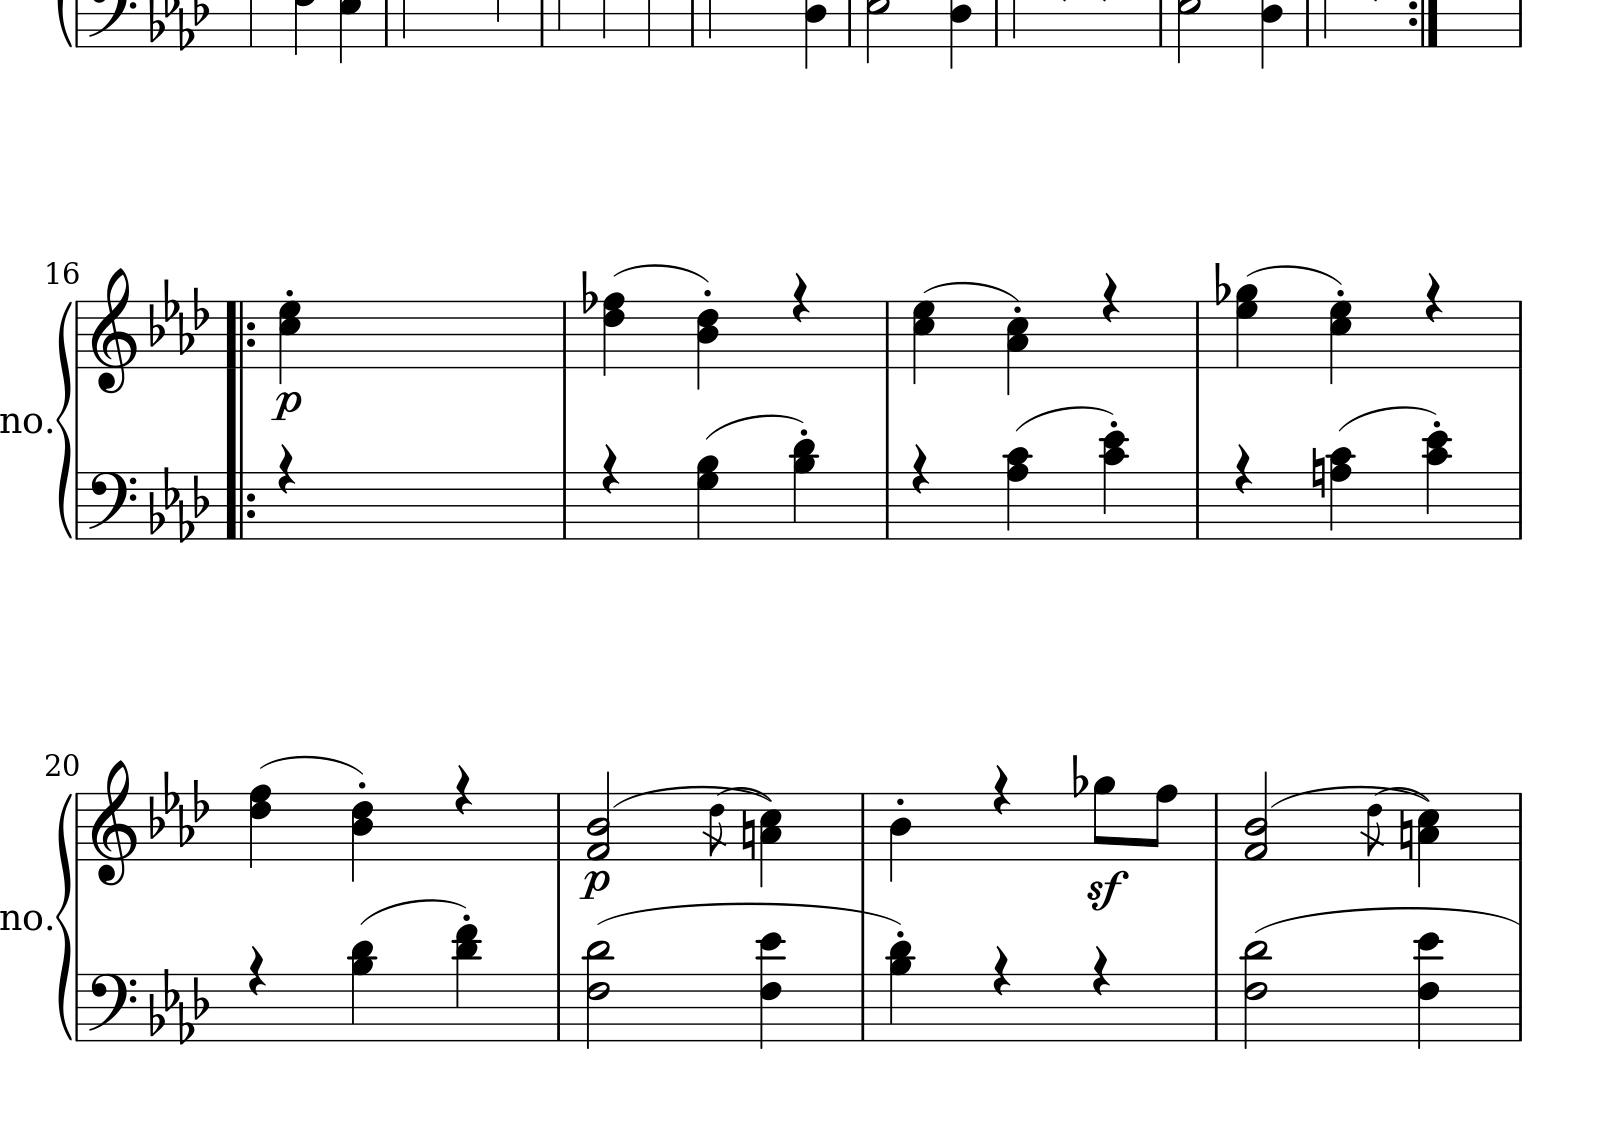0: (62, 750, 79, 778)
1: (45, 258, 59, 286)
2: (44, 751, 62, 777)
2_1_4: (585, 771, 613, 861), (1243, 773, 1271, 864)
2_6_11: (1241, 940, 1274, 1052), (582, 938, 613, 1050)
4_10_12: (1100, 426, 1129, 539), (1423, 429, 1452, 541)
4_11_13: (451, 924, 483, 1043)
4_3_5: (759, 792, 784, 890), (1415, 792, 1441, 888), (1006, 299, 1030, 400)
4_4: (888, 792, 914, 883)
4_4_6: (349, 791, 376, 882), (696, 299, 720, 391)
4_5_7: (1327, 298, 1354, 385), (912, 298, 937, 387), (277, 299, 302, 386)
4_6_10: (758, 930, 788, 1050)
4_6_12: (1412, 931, 1444, 1050)
4_6_8: (248, 782, 274, 868), (602, 290, 626, 378)
4_7_9: (695, 453, 720, 540), (1235, 282, 1259, 371)
4_8_10: (1325, 445, 1356, 541), (1002, 446, 1032, 543)
4_9_11: (885, 940, 916, 1041), (791, 436, 820, 543), (348, 940, 376, 1042)
6: (62, 257, 79, 286)
8_8: (1142, 783, 1178, 861)
8_9: (1091, 773, 1116, 861)
A_F: (148, 769, 210, 848), (147, 966, 209, 1043), (149, 276, 209, 354), (148, 464, 208, 543)
Acciaccature: (1361, 791, 1386, 861), (705, 792, 728, 863)
Brace: (55, 784, 75, 1042), (55, 298, 75, 536)
Fclef: (87, 469, 137, 541), (88, 971, 137, 1043)
Flat: (580, 268, 599, 315), (1213, 259, 1230, 307), (1070, 751, 1087, 799)
Gclef: (90, 265, 137, 393), (90, 758, 136, 886)
LeftRepeatSign: (222, 299, 258, 369), (224, 470, 258, 540)
Natural: (739, 810, 758, 864), (1397, 809, 1414, 864), (1310, 444, 1326, 500)
Rests4: (791, 270, 813, 326), (1100, 271, 1122, 326), (1423, 270, 1445, 325), (453, 762, 475, 817), (1233, 442, 1254, 496), (600, 442, 619, 496), (910, 442, 930, 496), (992, 762, 1012, 816), (992, 944, 1012, 998), (1091, 944, 1111, 998), (277, 444, 296, 496), (249, 944, 265, 998)
RightRepeatSign: (1408, 1, 1441, 46)
Single_barline: (556, 470, 574, 538), (556, 301, 574, 367), (1511, 973, 1529, 1041), (550, 792, 567, 859), (1189, 301, 1206, 367), (879, 301, 894, 367), (1513, 301, 1529, 367), (71, 792, 86, 860), (552, 971, 567, 1040), (71, 301, 86, 368), (880, 470, 894, 538), (855, 793, 870, 860), (1514, 792, 1527, 861), (1513, 473, 1527, 536), (72, 973, 86, 1039), (857, 973, 869, 1040), (72, 470, 84, 536)
Slur: (593, 897, 901, 927), (1252, 905, 1518, 934), (605, 784, 775, 813), (1267, 784, 1431, 808), (360, 897, 468, 926), (705, 411, 805, 441), (1014, 403, 1116, 433), (1337, 403, 1437, 433), (611, 261, 711, 283), (261, 754, 364, 775), (1246, 263, 1343, 285), (923, 280, 1019, 302)
p: (580, 868, 611, 901), (272, 389, 302, 422)
sf: (1085, 870, 1127, 912)
